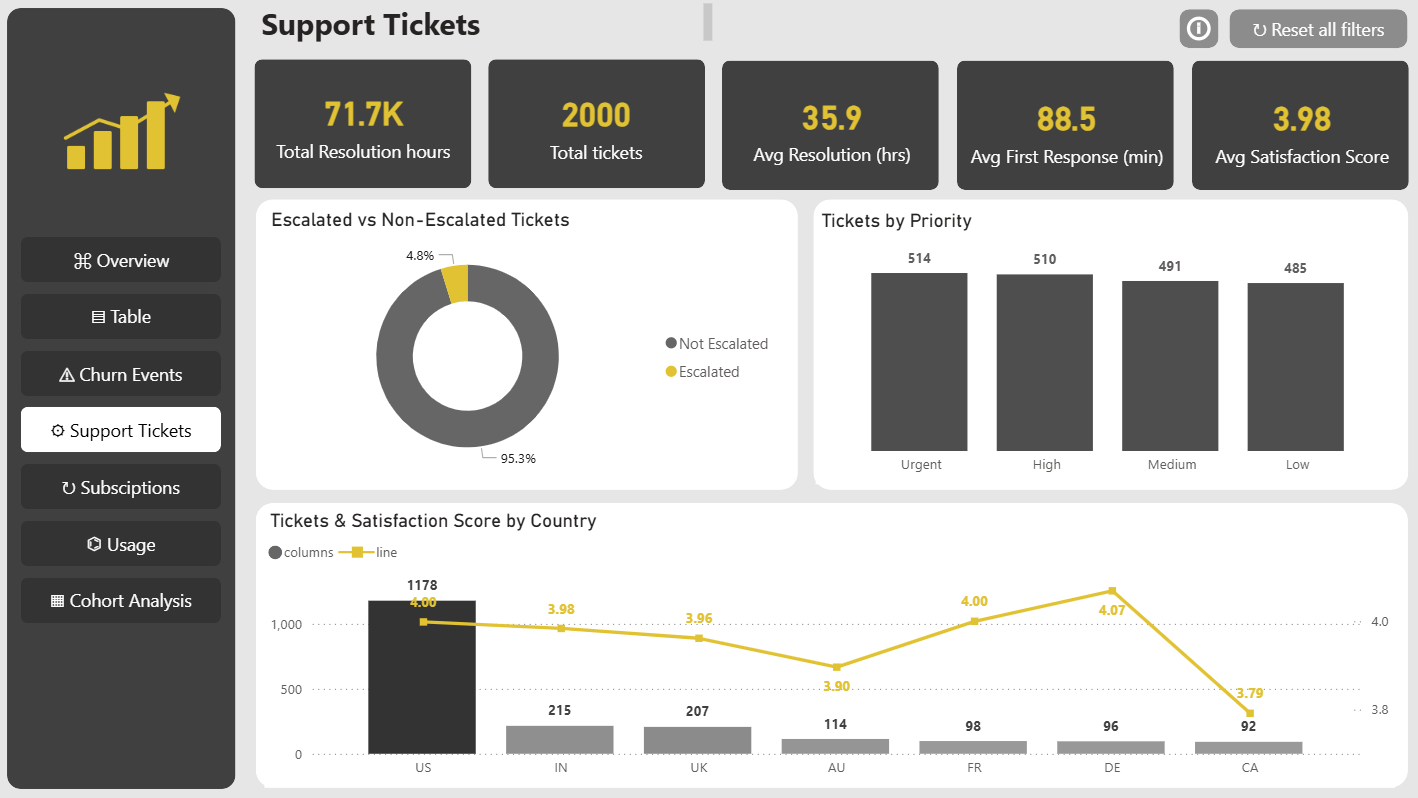

What the dashboard file says about the page in this screenshot:
{"tool":"powerbi","page":{"name":"\t⚙ Support Tickets","canvas":[1280,720],"ordinal":3},"visuals":[{"type":"image","box":[0,0,1278.3,720],"z":0},{"type":"shape","box":[854.3,47.1,212.9,134.3],"z":1000},{"type":"shape","box":[642.9,47.1,212.9,134.3],"z":2000},{"type":"shape","box":[232.5,181.2,487.5,261.2],"z":3000},{"type":"shape","box":[1065.7,47.1,212.9,134.3],"z":4000},{"type":"shape","box":[733.8,181.2,535,261.2],"z":5000},{"type":"shape","box":[232.9,454.3,1035.7,255.7],"z":6000},{"type":"shape","box":[222.9,45.7,213,134],"z":7000},{"type":"shape","box":[432.9,45.7,212.9,134],"z":8000},{"type":"card","fields":{"Values":["CountNonNull(public support_tickets.account_id)"]},"box":[444.3,51.4,190,124.3],"z":9000},{"type":"card","fields":{"Values":["Sum(public support_tickets.resolution_time_hours)"]},"box":[220,54.3,218.6,118.6],"z":10000},{"type":"card","fields":{"Values":["Avg(public support_tickets.resolution_time_hours)"]},"box":[648.8,55,205,122.5],"z":11000},{"type":"textbox","box":[232.9,0,415.7,44.3],"z":12000},{"type":"actionButton","box":[1062.5,10,35,35],"z":13000},{"type":"actionButton","title":"d","box":[1108,10,160,35],"z":14000},{"type":"card","fields":{"Values":["Avg(public support_tickets.satisfaction_score)"]},"box":[1070,58.8,207.5,118.8],"z":15000},{"type":"card","fields":{"Values":["Avg(public support_tickets.first_response_time_minutes)"]},"box":[858.6,57.1,207.1,120],"z":16000},{"type":"shape","title":"Special image","box":[1000,495,12.5,12.5],"z":17000},{"type":"columnChart","title":"Tickets by Priority","fields":{"Category":["public support_tickets.priority"],"Y":["CountNonNull(public support_tickets.account_id)"]},"box":[736.2,190,528.8,247.5],"z":18000},{"type":"lineStackedColumnComboChart","title":"Tickets & Satisfaction Score by Country","fields":{"Y":["CountNonNull(public support_tickets.ticket_id)"],"Y2":["Avg(public support_tickets.satisfaction_score)"],"Category":["public accounts.country"]},"box":[240,460,1016.2,250],"z":19000},{"type":"donutChart","title":"Escalated vs Non-Escalated Tickets","fields":{"Category":["public support_tickets.escalation_flag"],"Y":["CountNonNull(public support_tickets.ticket_id)"]},"box":[241.2,188.8,466.2,247.5],"z":20000},{"type":"shape","box":[0,0,223.3,720],"z":21000},{"type":"pageNavigator","box":[21.2,215,180,350],"z":22000},{"type":"image","box":[0,74,238,110],"z":23000},{"type":"shape","title":"Special image","box":[243.8,492.5,12.5,12.5],"z":24000}]}

Visuals, with their boxes in screenshot pixels (x1, y1, x2, y2), scaled from the page's 1280x720 canvas onto the 1418x798 screenshot:
image: [0,0,1416,797]
shape: [946,52,1182,201]
shape: [712,52,948,201]
shape: [258,201,798,490]
shape: [1181,52,1416,201]
shape: [813,201,1406,490]
shape: [258,504,1405,787]
shape: [247,51,483,199]
shape: [480,51,715,199]
card - CountNonNull(public support_tickets.account_id): [492,57,703,195]
card - Sum(public support_tickets.resolution_time_hours): [244,60,486,192]
card - Avg(public support_tickets.resolution_time_hours): [719,61,946,197]
textbox: [258,0,719,49]
actionButton: [1177,11,1216,50]
"d" actionButton: [1227,11,1405,50]
card - Avg(public support_tickets.satisfaction_score): [1185,65,1415,197]
card - Avg(public support_tickets.first_response_time_minutes): [951,63,1181,196]
"Special image" shape: [1108,549,1122,562]
"Tickets by Priority" columnChart: [816,211,1401,485]
"Tickets & Satisfaction Score by Country" lineStackedColumnComboChart: [266,510,1392,787]
"Escalated vs Non-Escalated Tickets" donutChart: [267,209,784,484]
shape: [0,0,247,797]
pageNavigator: [23,238,223,626]
image: [0,82,264,204]
"Special image" shape: [270,546,284,560]
